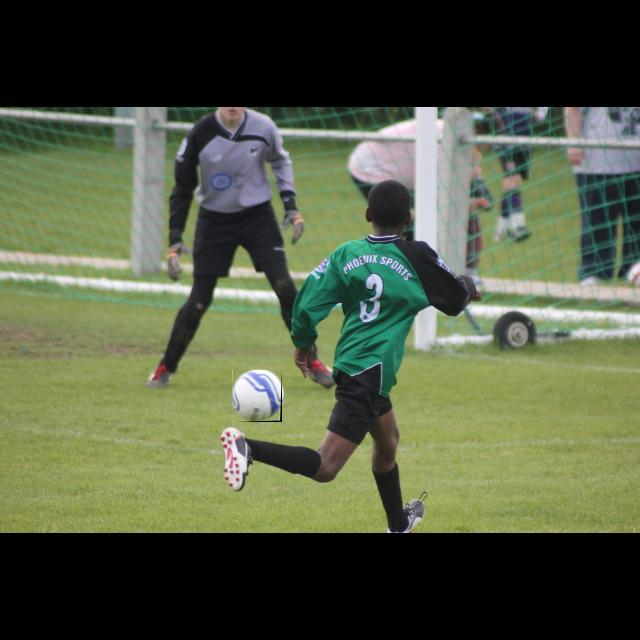Football: (232, 370, 282, 422)
